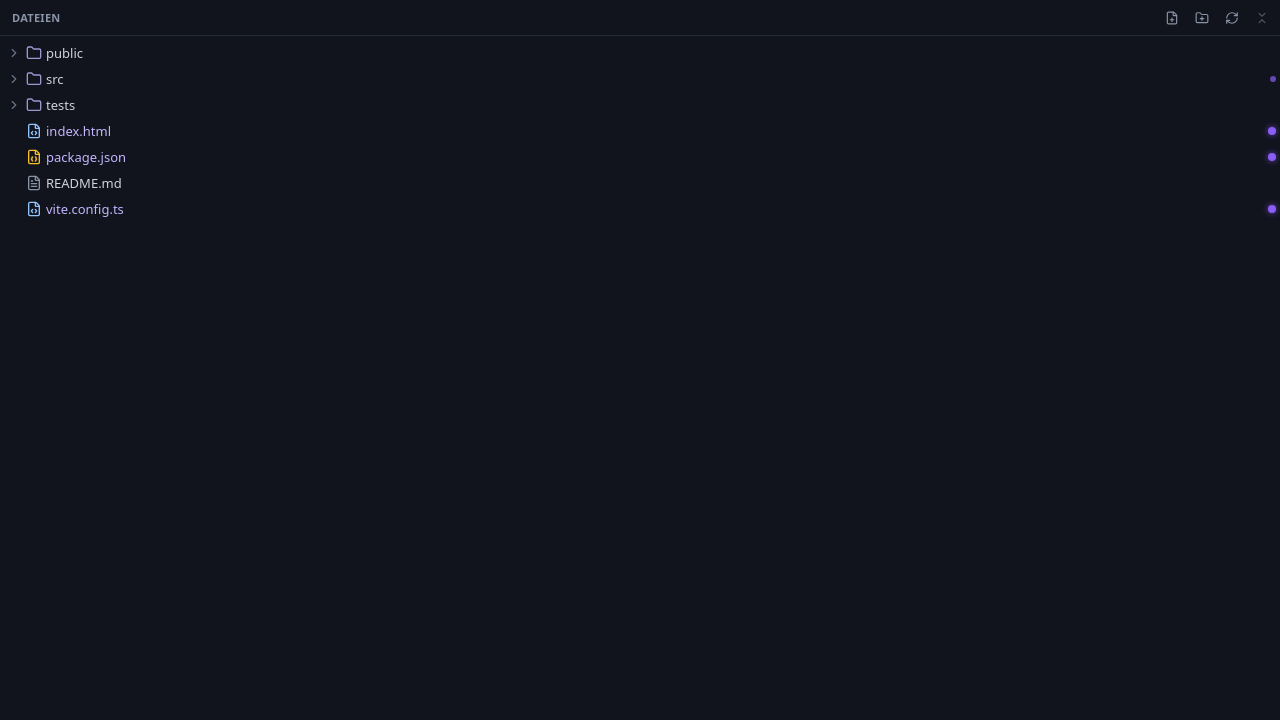
Test: FileTree › refuses invalid or existing names without overwriting
This screenshot has width=1280, height=720.
Click the button named "Neue Datei" at (1172, 18), box [1158,4,1186,32]
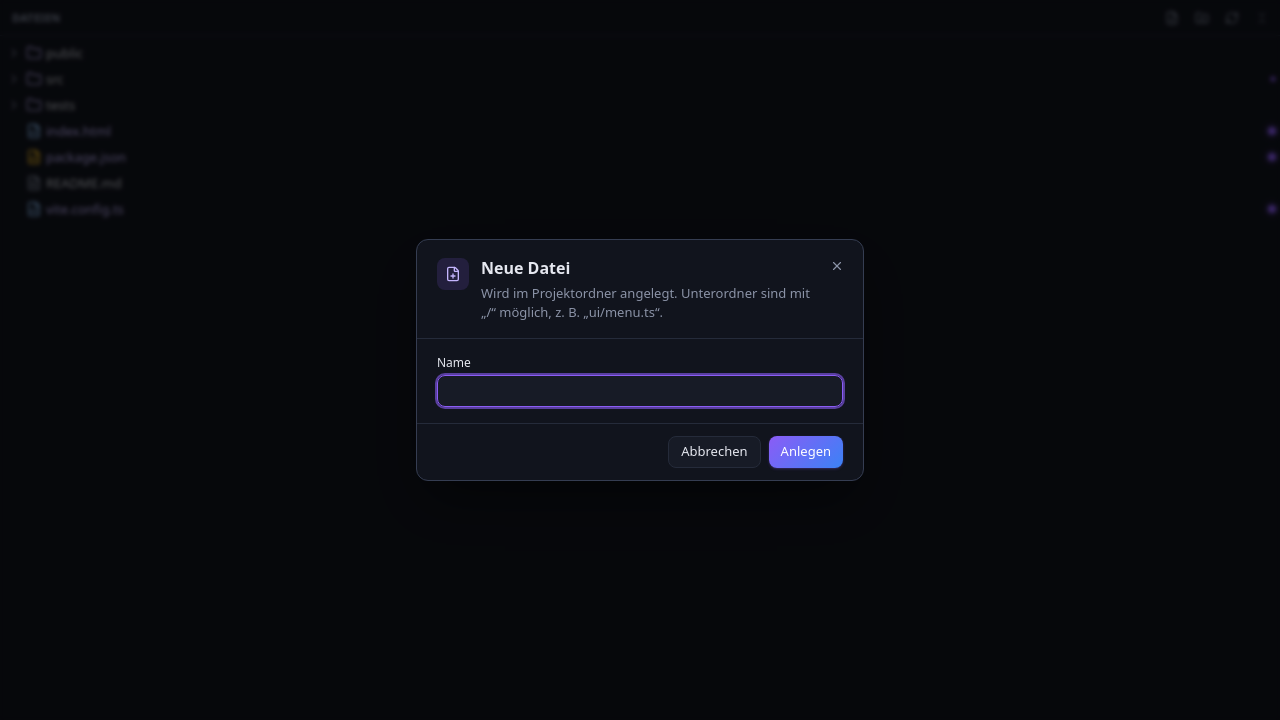
Type "a?.ts" into the field labelled "Name" at (640, 391), box [437,375,843,407]
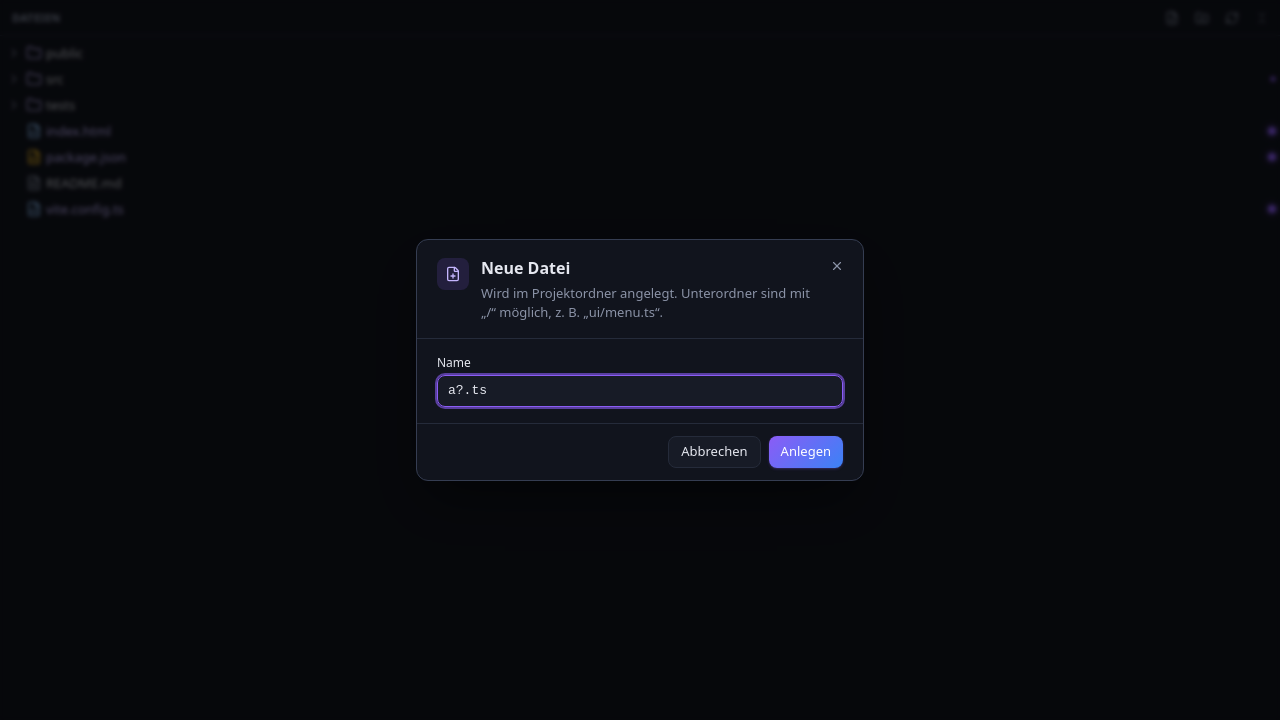
Click the button "Anlegen" at (806, 452), box [769,436,843,468]
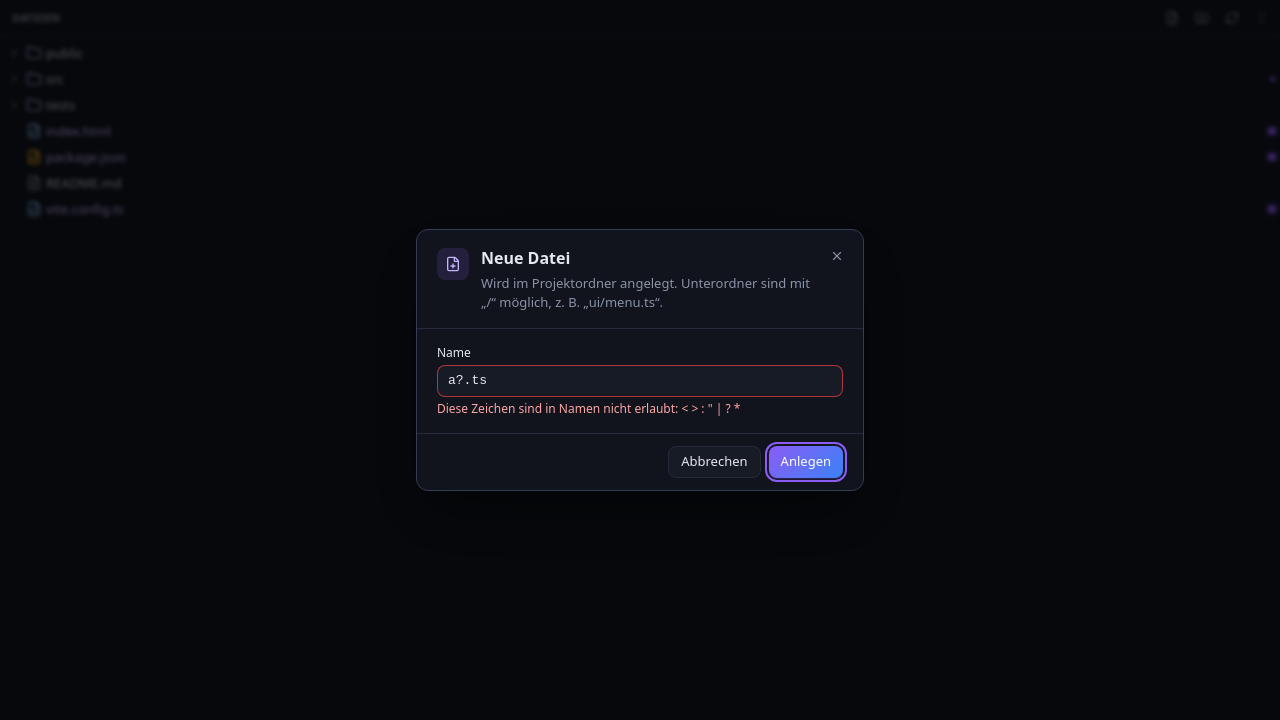
Check: the text "Diese Zeichen sind in Namen nicht erlaubt: < > : \" | ? *" is shown, box [437,400,740,417]
Clear the field labelled "Name" at (640, 381), box [437,365,843,397]
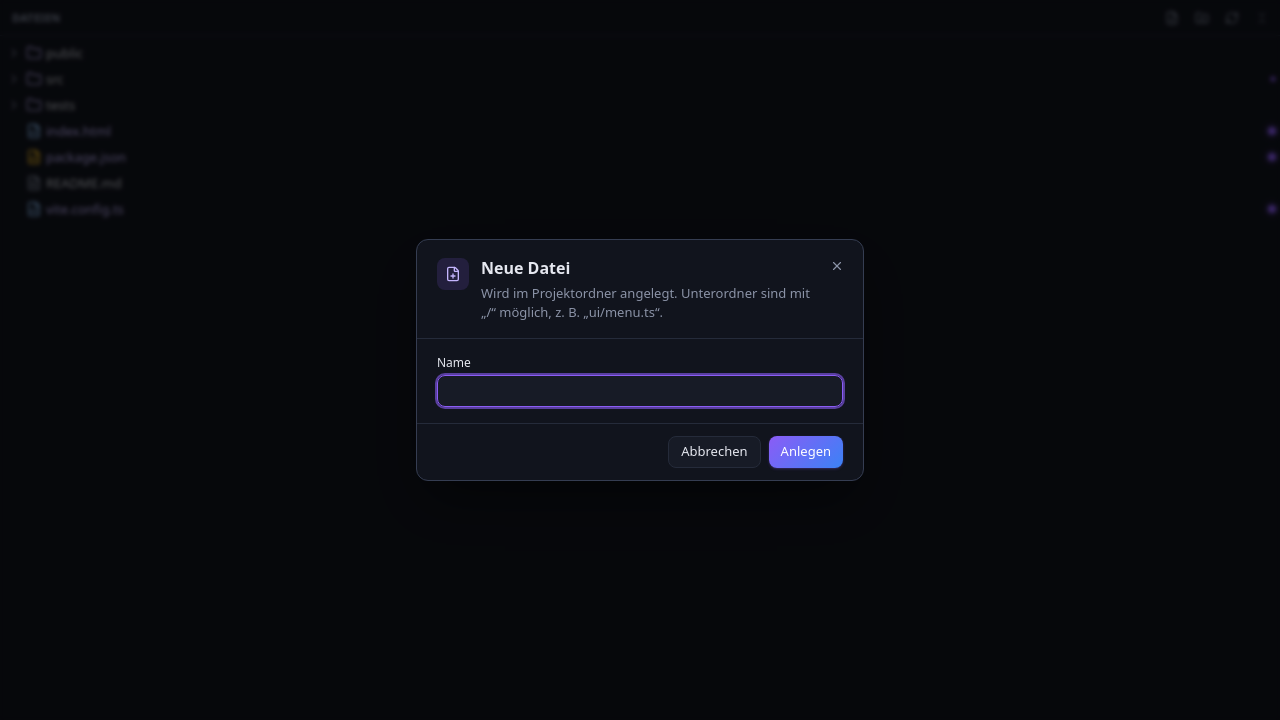
Type "index.html" into the field labelled "Name" at (640, 391), box [437,375,843,407]
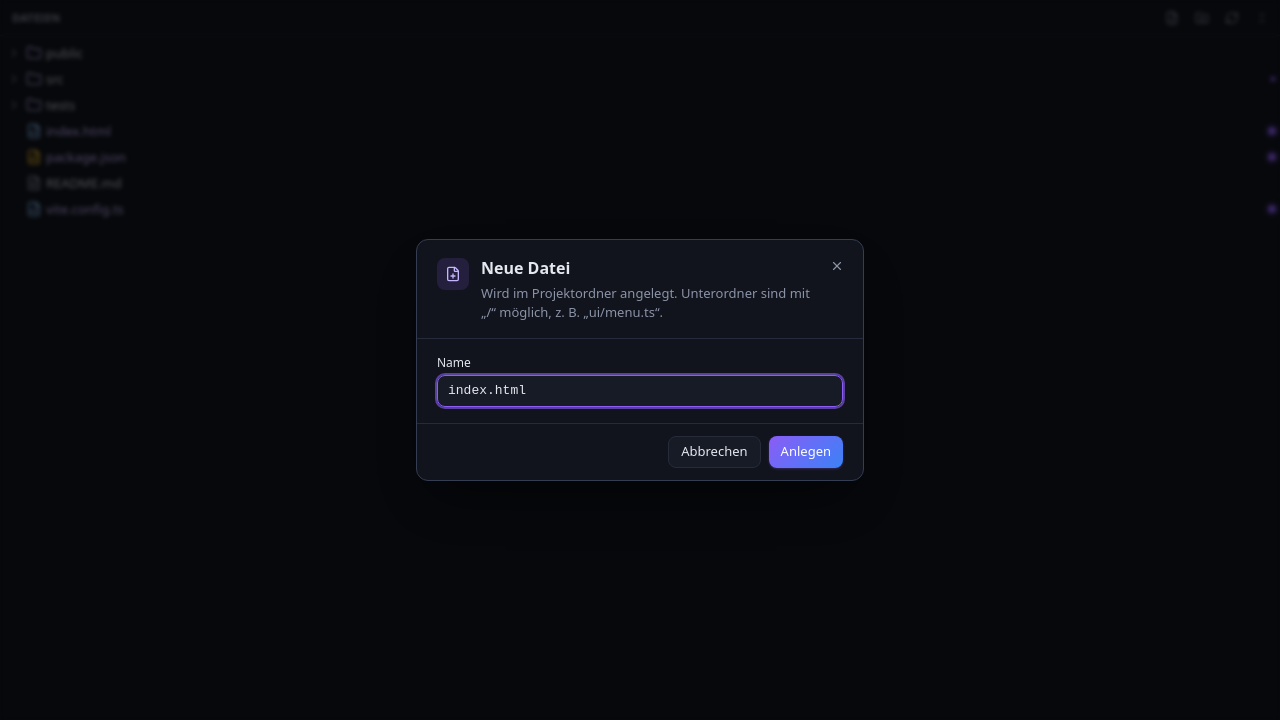
Click the button "Anlegen" at (806, 452), box [769,436,843,468]
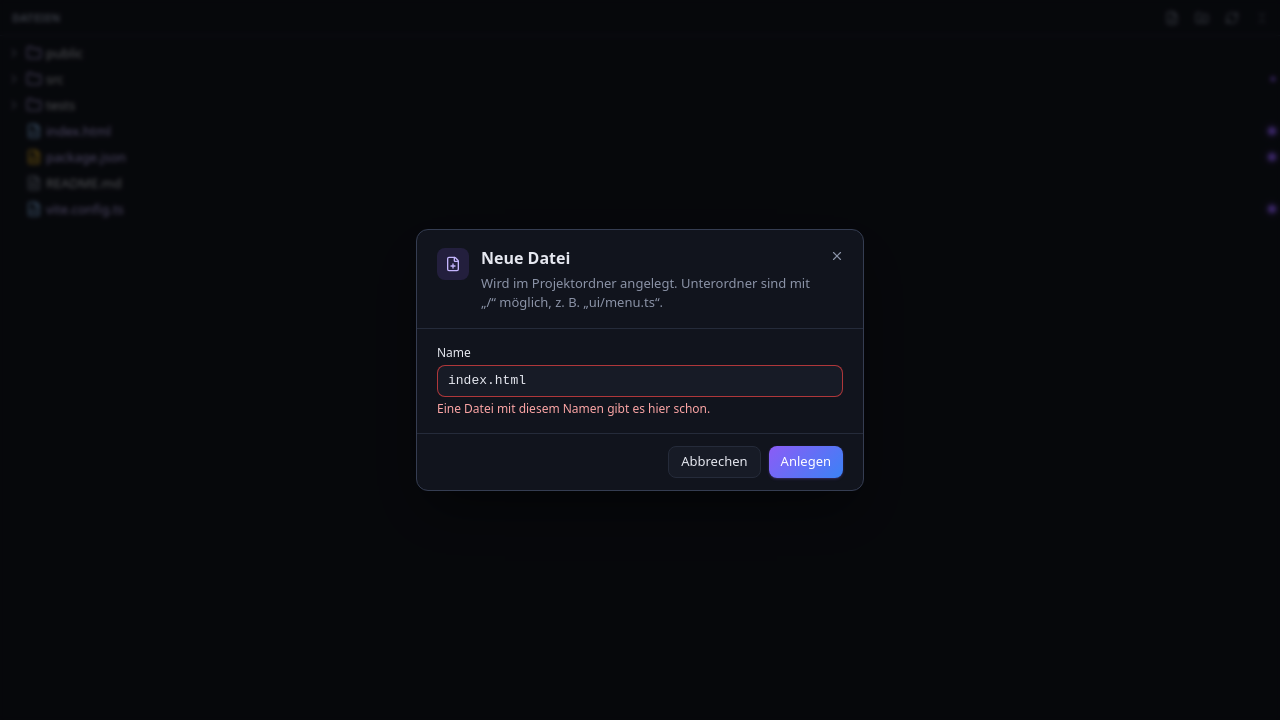
Check: the text "Eine Datei mit diesem Namen gibt es hier schon." is shown, box [437,400,710,417]
